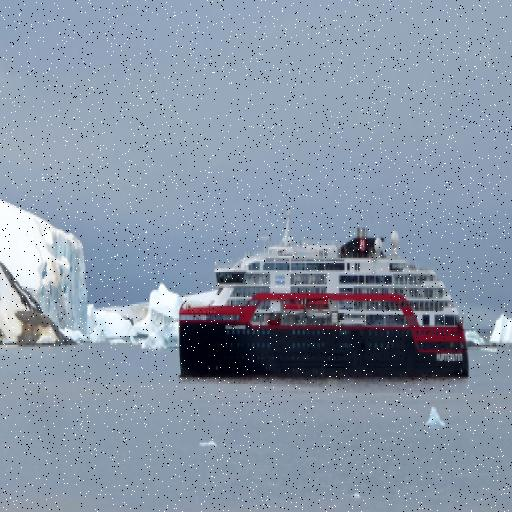cruises: (178, 204, 472, 392)
